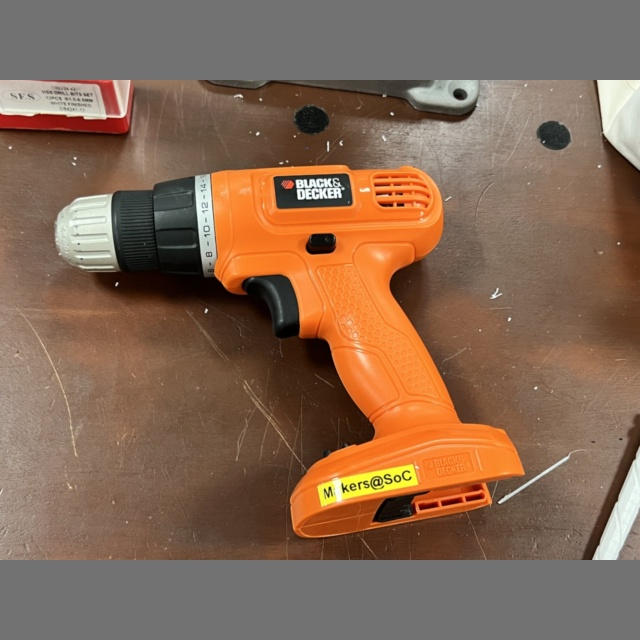drill: (56, 165, 524, 538)
